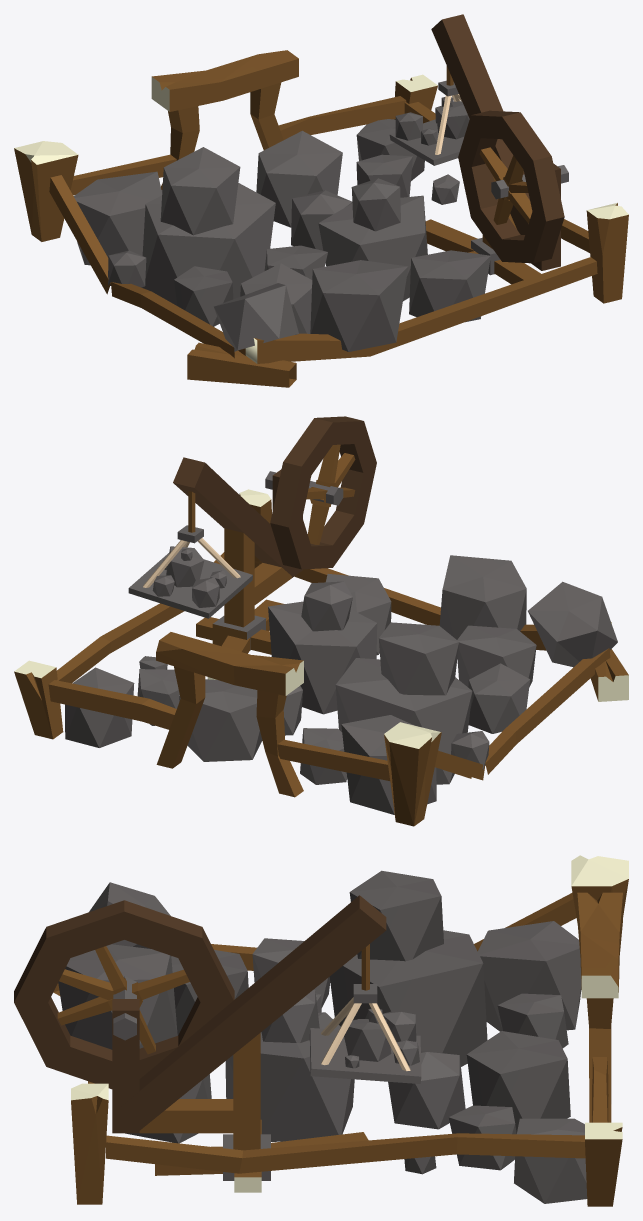
File: RESERVE PIERRE 5.fbx
The picture shows the model from 3 angles, top to bottom: view 1: azimuth 30°, elevation 25°; view 2: azimuth 150°, elevation 25°; view 3: azimuth 270°, elevation 25°; orthographic projection. The views are drawn at different scales.
Parts seen in each view (by area): view 1: Stone_1.049; view 2: Stone_1.049; view 3: Stone_1.049.
Part boxes in pixels (left/top/right/bottom): Stone_1.049: left=14, top=14, right=628, bottom=387; Stone_1.049: left=14, top=416, right=628, bottom=826; Stone_1.049: left=14, top=855, right=628, bottom=1206.
Size of the model in its own units: 600 by 315 by 600.
